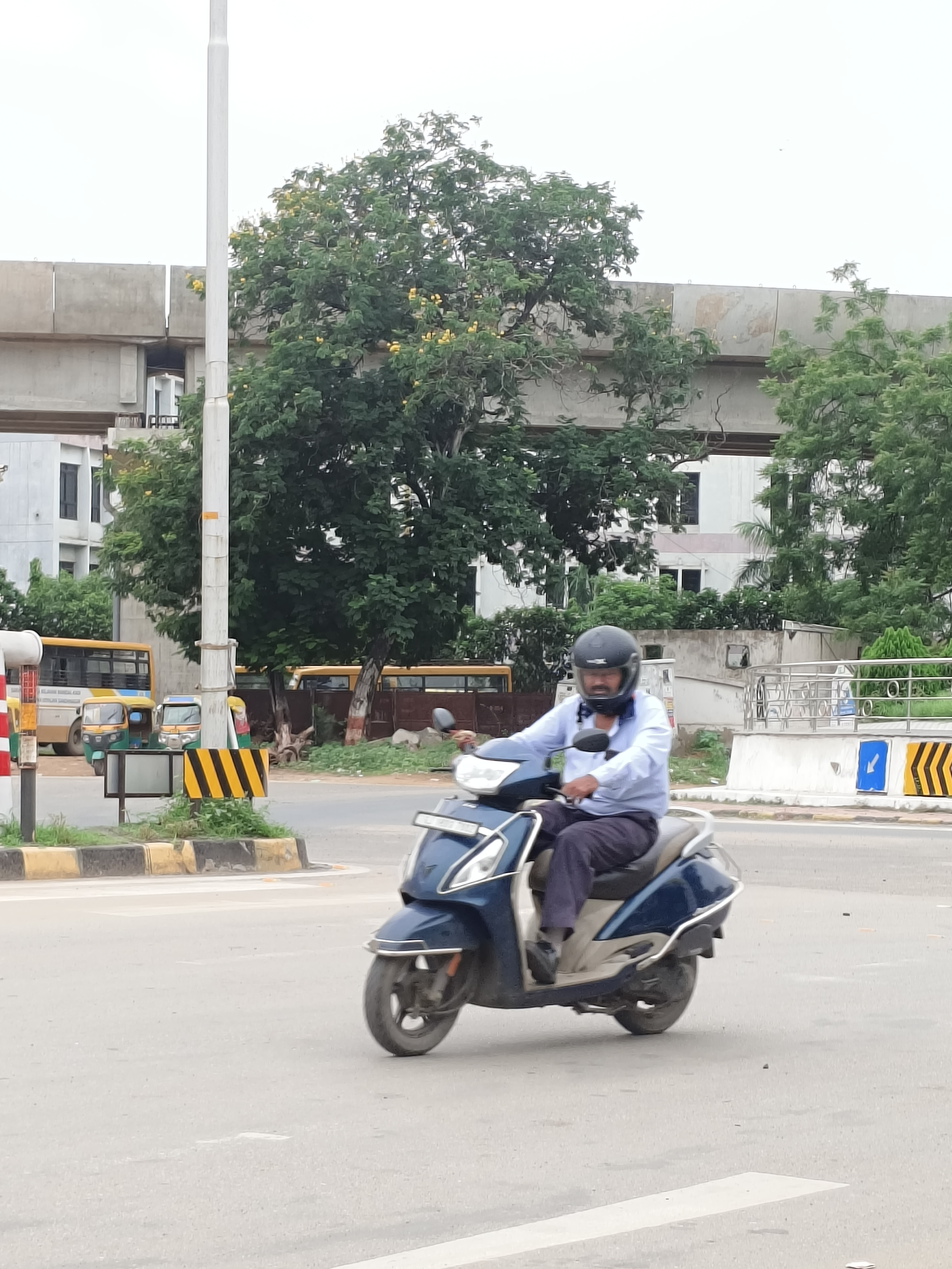BikeWithRider: (349, 614, 755, 1066)
Helmet: (558, 616, 653, 717)
